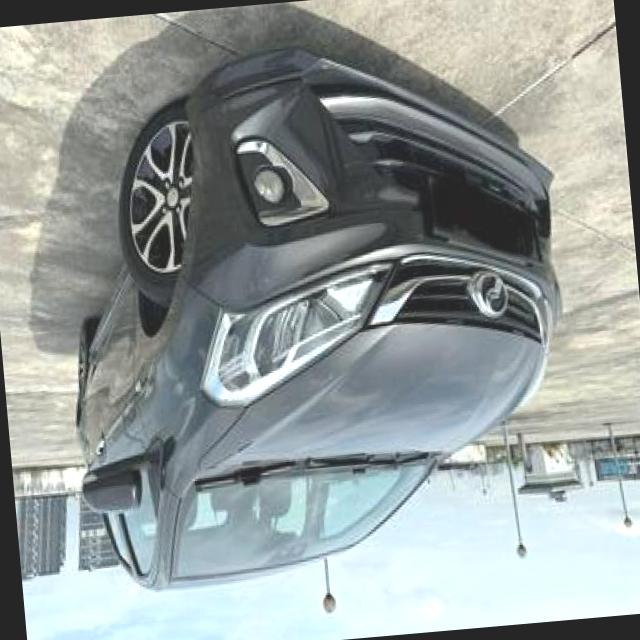PeroduaMyvi: (42, 23, 590, 609)
